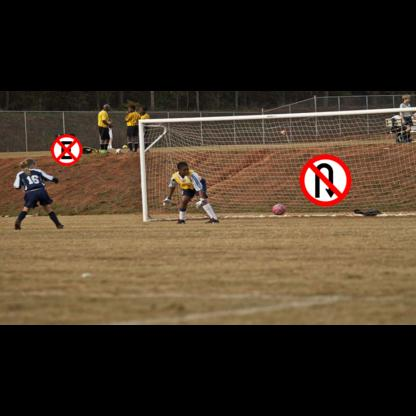R-6c: (51, 134, 82, 166)
